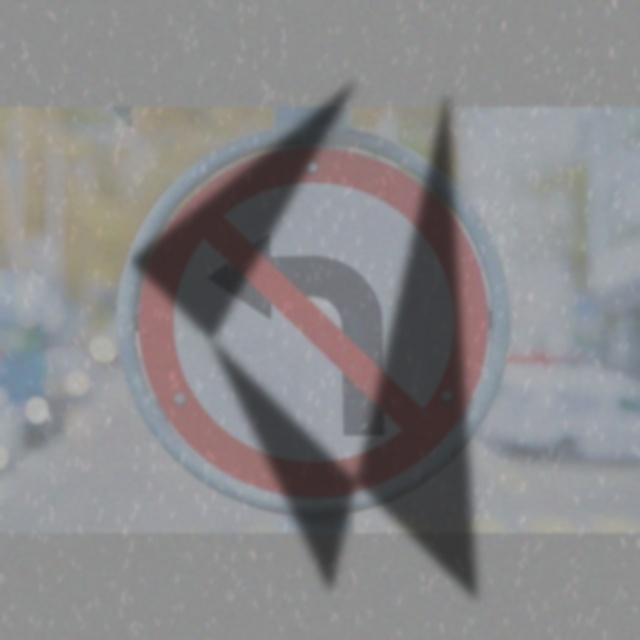Left_Turn_Prohibited: (119, 126, 510, 508)
